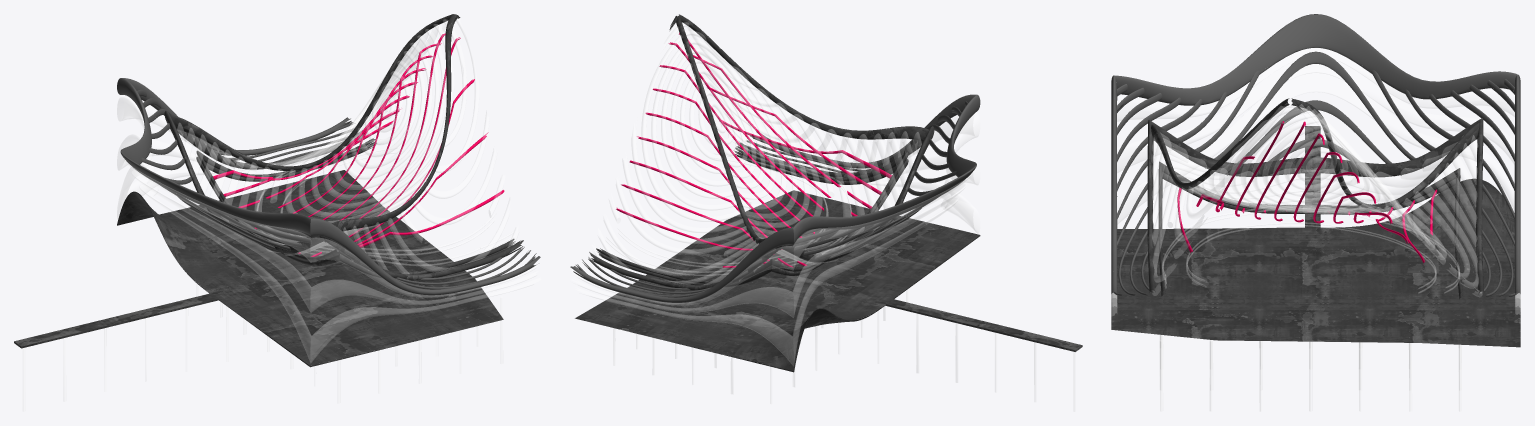
File: as2-opt.glb
3 views of the same model, side by side, from view 1: azimuth 30°, elevation 25°; view 2: azimuth 150°, elevation 25°; view 3: azimuth 270°, elevation 25° (orthographic). The views are drawn at different scales.
Visible parts, largest first — view 1: Mesh_1.001, Mesh_0.001, Mesh_3.001, Mesh_4.001; view 2: Mesh_1.001, Mesh_0.001, Mesh_3.001, Mesh_4.001; view 3: Mesh_1.001, Mesh_0.001, Mesh_3.001, Mesh_4.001.
Boxes of the visible parts, bbox=[...] form: Mesh_1.001: bbox=[14, 14, 523, 367]; Mesh_0.001: bbox=[23, 18, 540, 411]; Mesh_3.001: bbox=[117, 78, 540, 295]; Mesh_4.001: bbox=[213, 33, 504, 256]; Mesh_1.001: bbox=[575, 14, 1082, 372]; Mesh_0.001: bbox=[571, 15, 1075, 411]; Mesh_3.001: bbox=[570, 94, 980, 302]; Mesh_4.001: bbox=[616, 33, 891, 267]; Mesh_1.001: bbox=[1111, 98, 1520, 347]; Mesh_0.001: bbox=[1111, 48, 1520, 411]; Mesh_3.001: bbox=[1111, 14, 1520, 297]; Mesh_4.001: bbox=[1177, 121, 1437, 262].
Size of the model in its own units: 54.23 by 36.37 by 42.21.
Materials: 4 (1 with a texture image).
